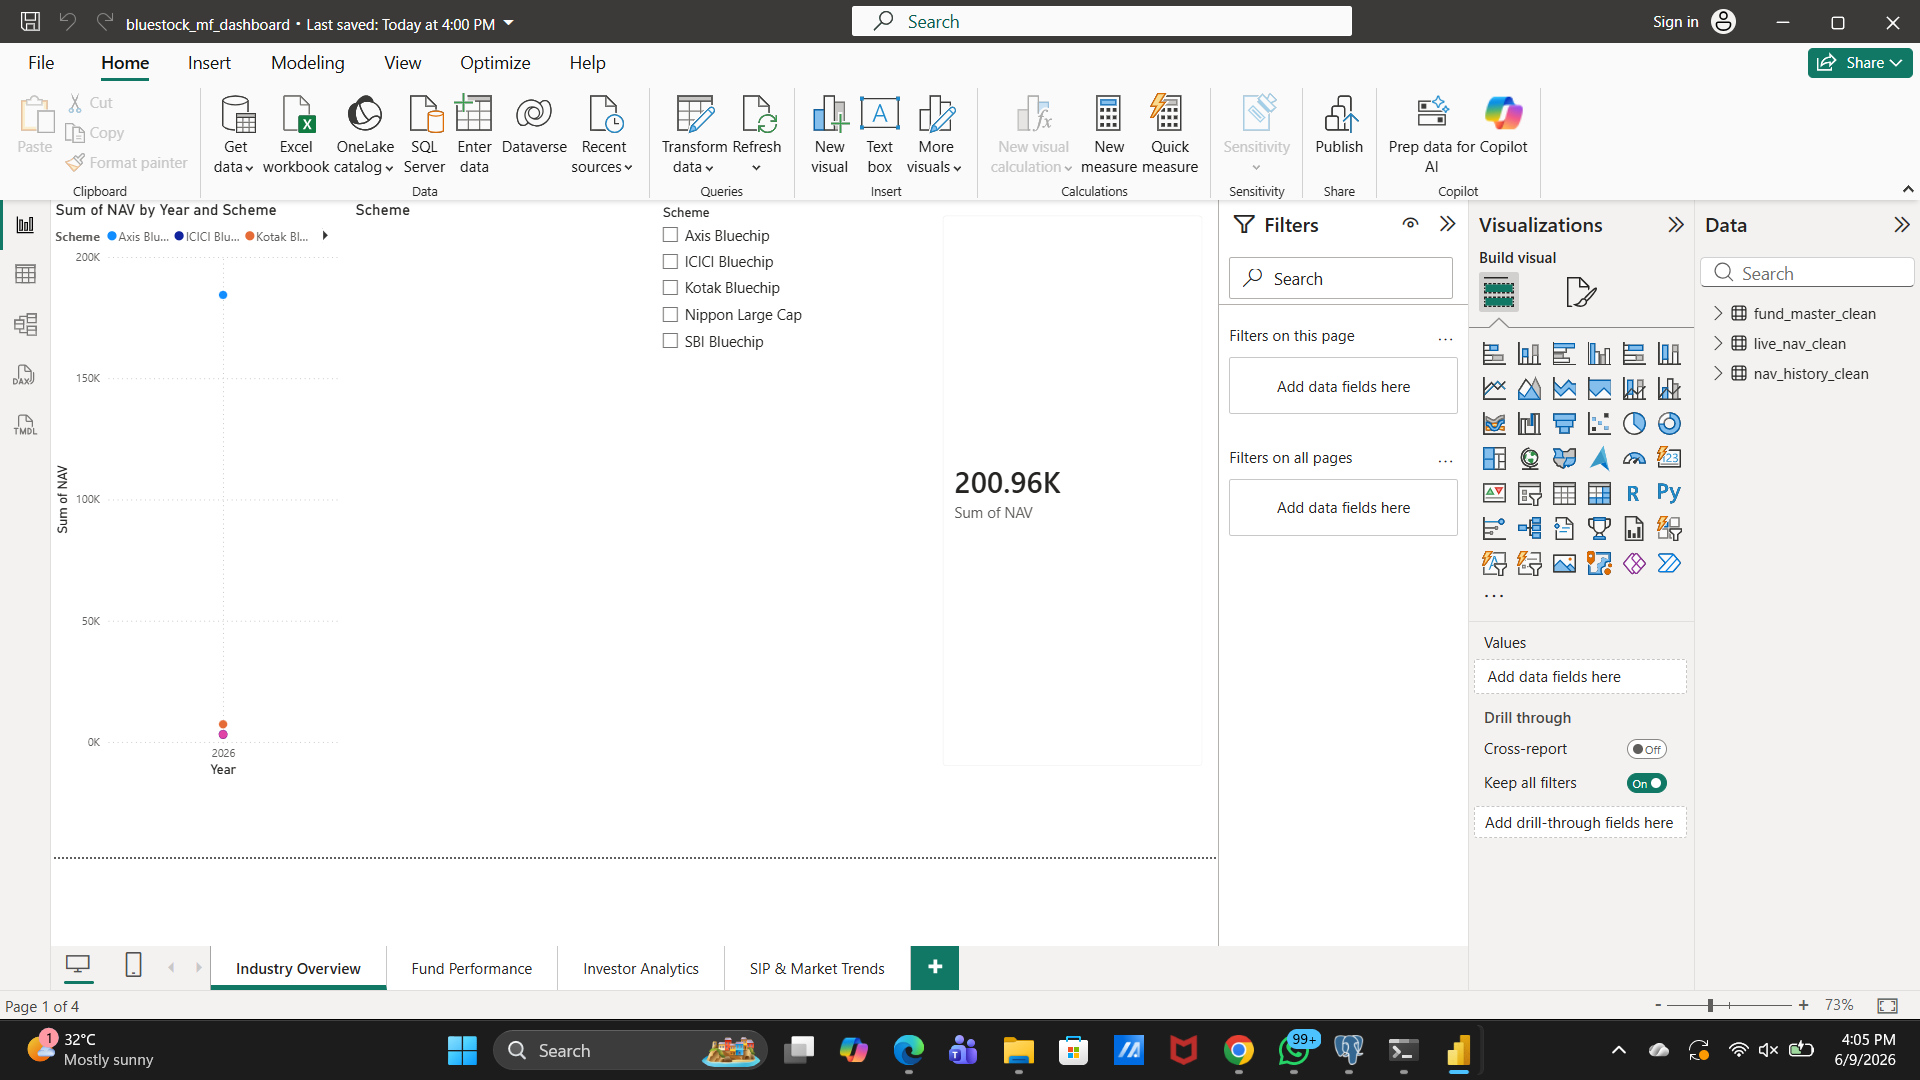

This screenshot's page, from the dashboard's own definition file:
{"tool":"powerbi","page":{"name":"Industry Overview","canvas":[1280,720],"ordinal":0},"visuals":[{"type":"cardVisual","fields":{"Data":["Sum(nav_history_clean.NAV)"]},"box":[961,0,319,638],"z":2000},{"type":"lineChart","fields":{"Category":["nav_history_clean.Date.Variation.Date Hierarchy.Year","nav_history_clean.Date.Variation.Date Hierarchy.Quarter","nav_history_clean.Date.Variation.Date Hierarchy.Month","nav_history_clean.Date.Variation.Date Hierarchy.Day"],"Y":["Sum(nav_history_clean.NAV)"],"Series":["nav_history_clean.Scheme"]},"box":[0,0,319,638],"z":2001},{"type":"kpi","fields":{"TrendLine":["nav_history_clean.Scheme"]},"box":[329,0,319,638],"z":2002},{"type":"slicer","fields":{"Values":["nav_history_clean.Scheme"]},"box":[658,0,319,638],"z":2003}]}

Visuals, with their boxes on the page's 1280x720 design canvas (x1, y1, x2, y2). These are canvas units, not pixel positions in the 1920x1080 screenshot, which may show the page scaled, cropped or inside an application window:
cardVisual - Sum(nav_history_clean.NAV): <region>961, 0, 1280, 638</region>
lineChart - nav_history_clean.Date.Variation.Date Hierarchy.Year x nav_history_clean.Date.Variation.Date Hierarchy.Quarter: <region>0, 0, 319, 638</region>
kpi - nav_history_clean.Scheme: <region>329, 0, 648, 638</region>
slicer - nav_history_clean.Scheme: <region>658, 0, 977, 638</region>
